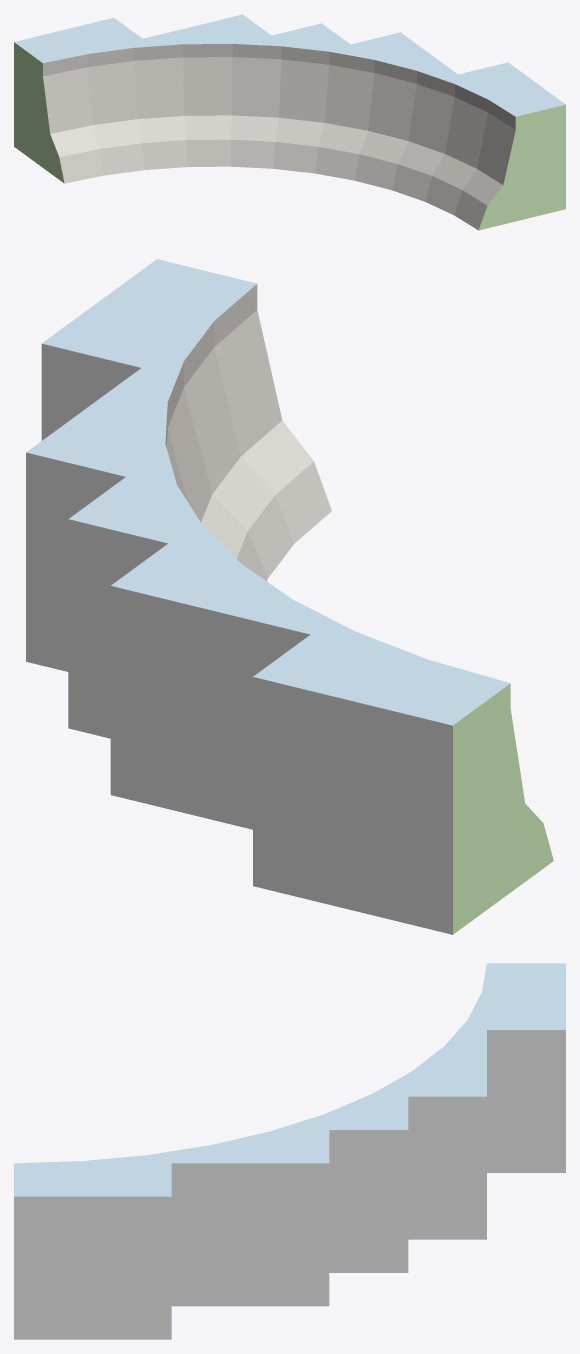
File: Wall_Curve_Inner_7x7_Base.glb
The picture shows the model from 3 angles, top to bottom: view 1: azimuth 30°, elevation 25°; view 2: azimuth 150°, elevation 25°; view 3: azimuth 270°, elevation 25°; orthographic projection. The views are drawn at different scales.
Parts seen in each view (by area): view 1: Wall_Curve_Inner_7x7_Base; view 2: Wall_Curve_Inner_7x7_Base; view 3: Wall_Curve_Inner_7x7_Base.
Part boxes in pixels (x1,y1,x2,y2): Wall_Curve_Inner_7x7_Base: (14, 14, 565, 230); Wall_Curve_Inner_7x7_Base: (26, 259, 553, 934); Wall_Curve_Inner_7x7_Base: (14, 963, 565, 1339).
Bounding box in the file's own units: 700 × 200 × 700.
